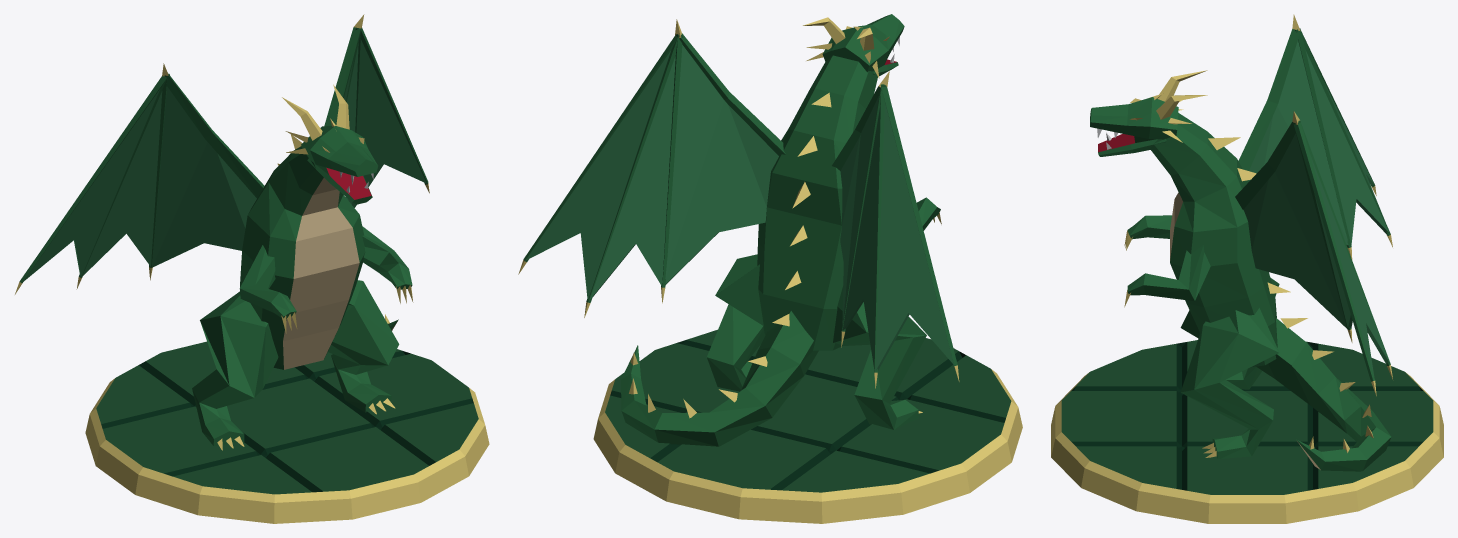
File: green-dragon-miniature-d9e7d4.glb
3 views of the same model, side by side, from view 1: azimuth 30°, elevation 25°; view 2: azimuth 150°, elevation 25°; view 3: azimuth 270°, elevation 25° (orthographic). The views are drawn at different scales.
Parts seen in each view (by area): view 1: body, gold, head; view 2: body, gold, head; view 3: body, gold, head.
Part boxes in pixels (x1,y1,x2,y2): body: [19, 27, 478, 494]; gold: [15, 14, 489, 523]; head: [301, 125, 377, 204]; body: [523, 33, 1011, 492]; gold: [518, 17, 1022, 523]; head: [822, 14, 904, 76]; body: [1061, 28, 1433, 494]; gold: [1051, 14, 1443, 523]; head: [1090, 97, 1178, 156].
Bounding box in the file's own units: 0.0906 × 0.0798 × 0.075.
